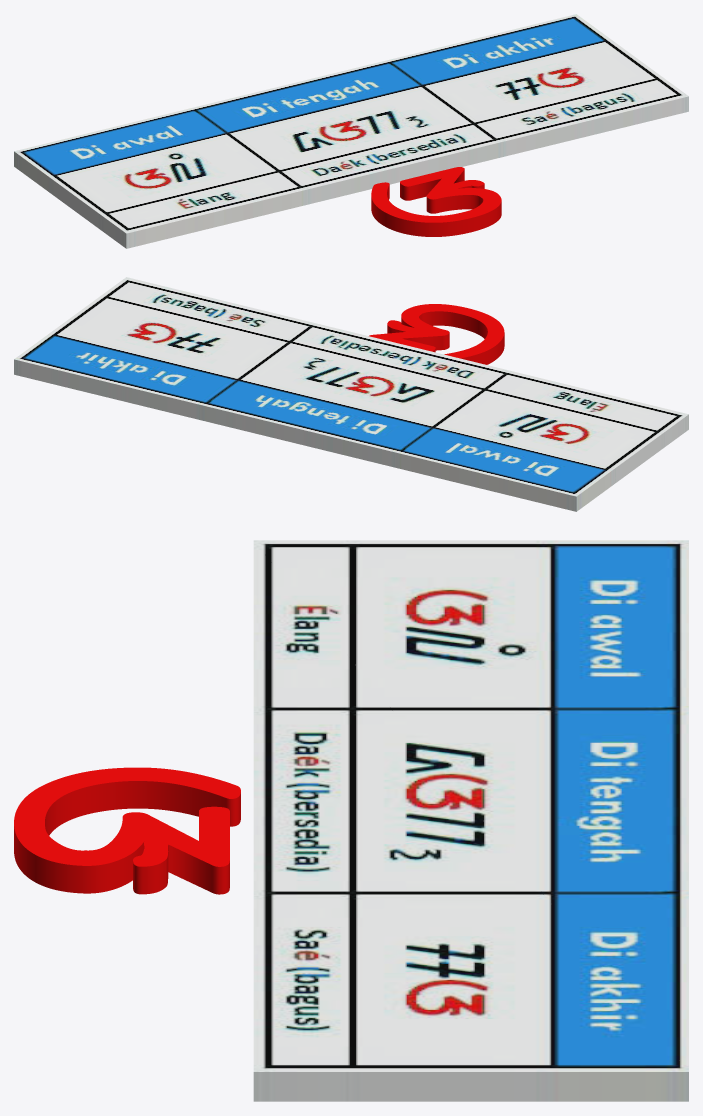
The picture shows the model from 3 angles, top to bottom: view 1: azimuth 30°, elevation 25°; view 2: azimuth 150°, elevation 25°; view 3: azimuth 270°, elevation 25°; orthographic projection. The views are drawn at different scales.
Parts seen in each view (by area): view 1: contoh-bunyi-huruf-_-Swara-vokal-mandiri, Text; view 2: contoh-bunyi-huruf-_-Swara-vokal-mandiri, Text; view 3: contoh-bunyi-huruf-_-Swara-vokal-mandiri, Text.
Part boxes in pixels (x1=…): contoh-bunyi-huruf-_-Swara-vokal-mandiri: x1=14, y1=14, x2=688, y2=248; Text: x1=371, y1=167, x2=501, y2=236; contoh-bunyi-huruf-_-Swara-vokal-mandiri: x1=14, y1=277, x2=688, y2=511; Text: x1=369, y1=304, x2=504, y2=364; contoh-bunyi-huruf-_-Swara-vokal-mandiri: x1=253, y1=540, x2=688, y2=1101; Text: x1=14, y1=767, x2=240, y2=894.
Size of the model in its own units: 2.89 by 0.11 by 1.55.
2 materials, 1 textured.
